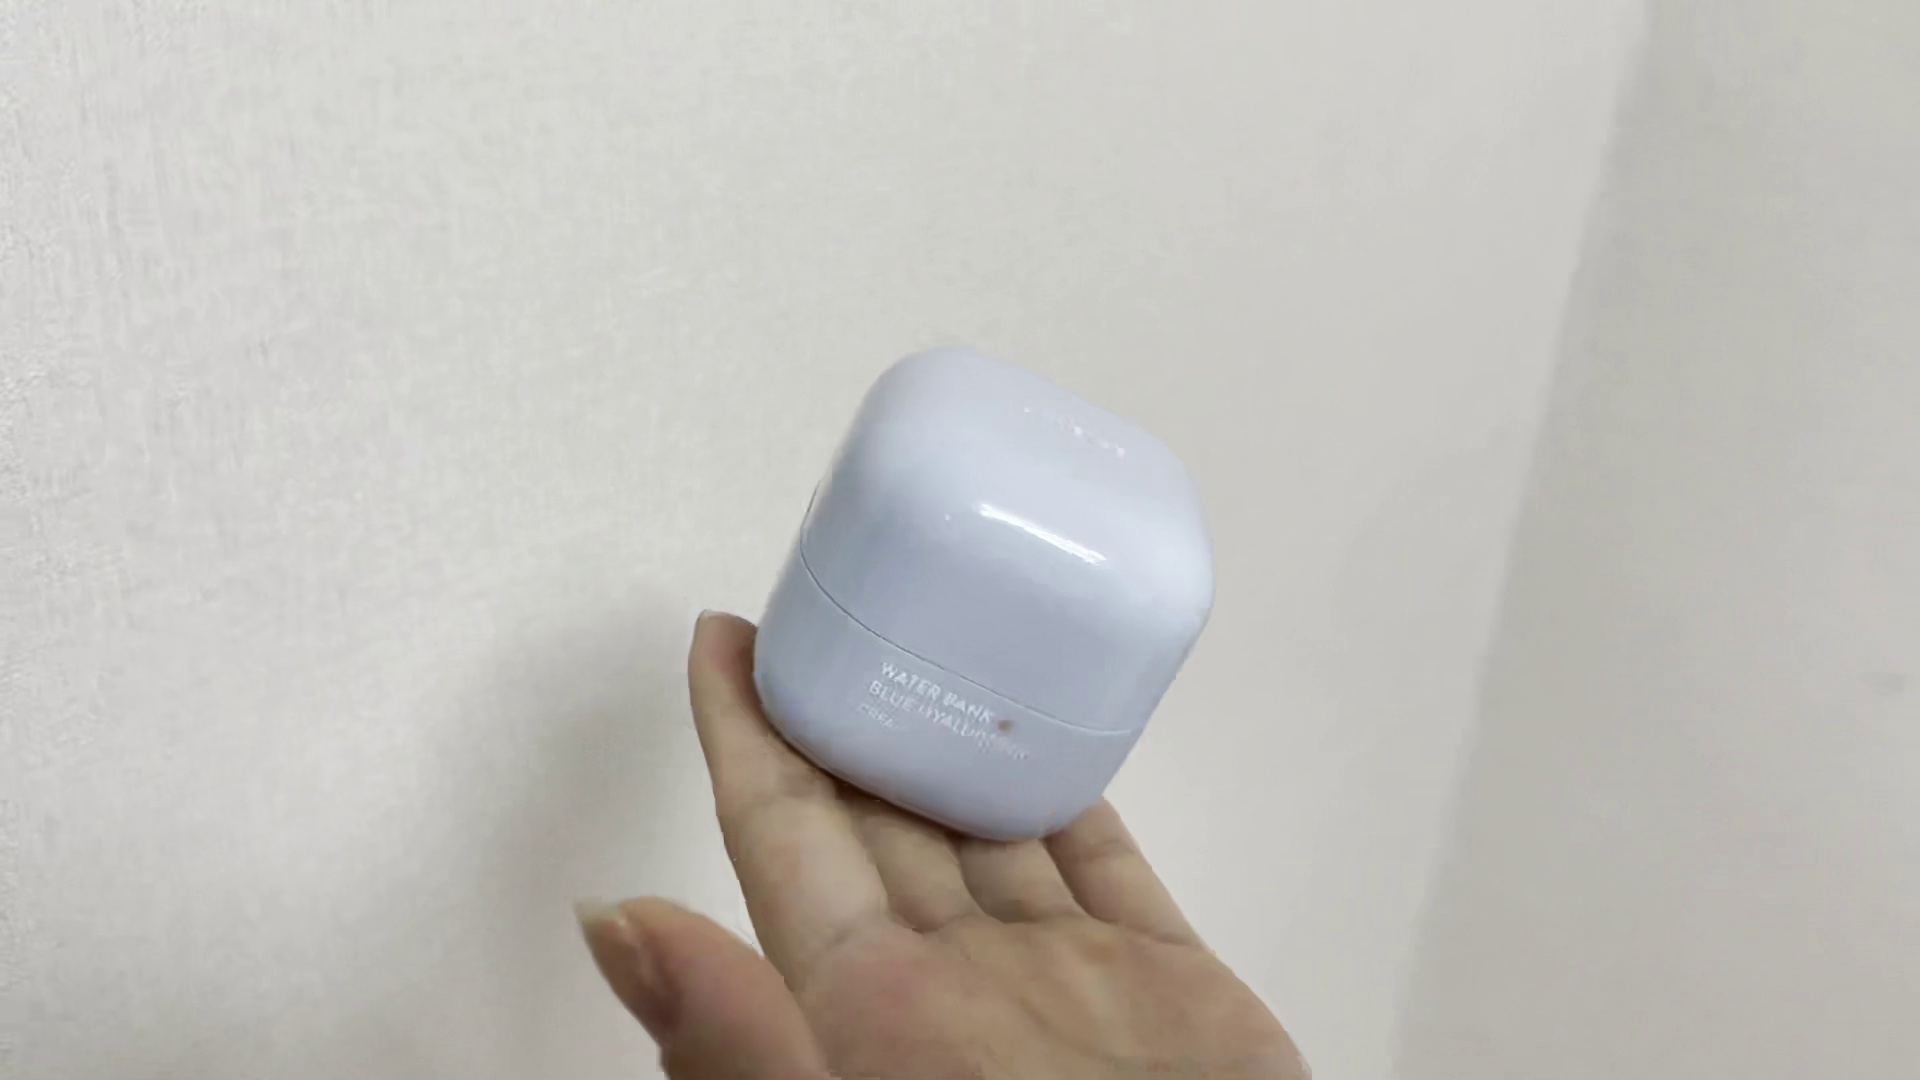cream: (735, 352, 1212, 848)
